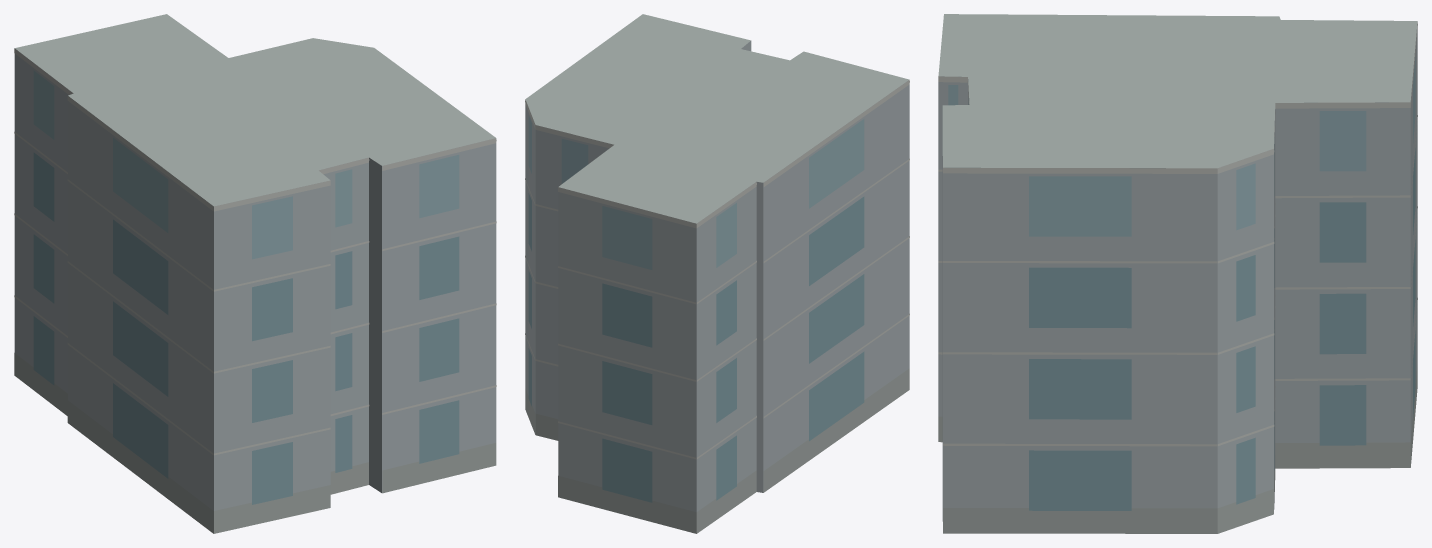
File: survey-upis-32993317.glb
3 renders of one model, left to right at view 1: azimuth 30°, elevation 25°; view 2: azimuth 150°, elevation 25°; view 3: azimuth 270°, elevation 25°, orthographic. The views are drawn at different scales.
Parts seen in each view (by area): view 1: survey-upis-32993317.tmp; view 2: survey-upis-32993317.tmp; view 3: survey-upis-32993317.tmp.
Boxes of the visible parts, x1,y1,x2,y2 form: survey-upis-32993317.tmp: (14, 14, 496, 533); survey-upis-32993317.tmp: (525, 14, 909, 533); survey-upis-32993317.tmp: (938, 14, 1417, 533).
Size of the model in its own units: 14.13 by 15.6 by 18.55.
